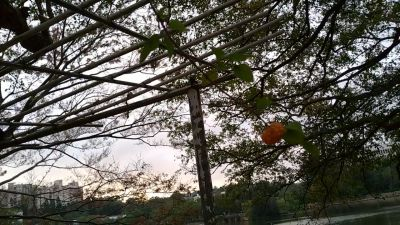eggs: (260, 121, 286, 145)
